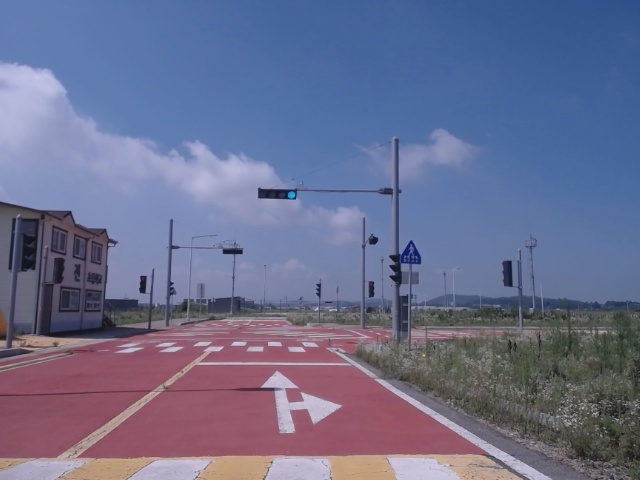straight_green_4: (257, 190, 297, 200)
